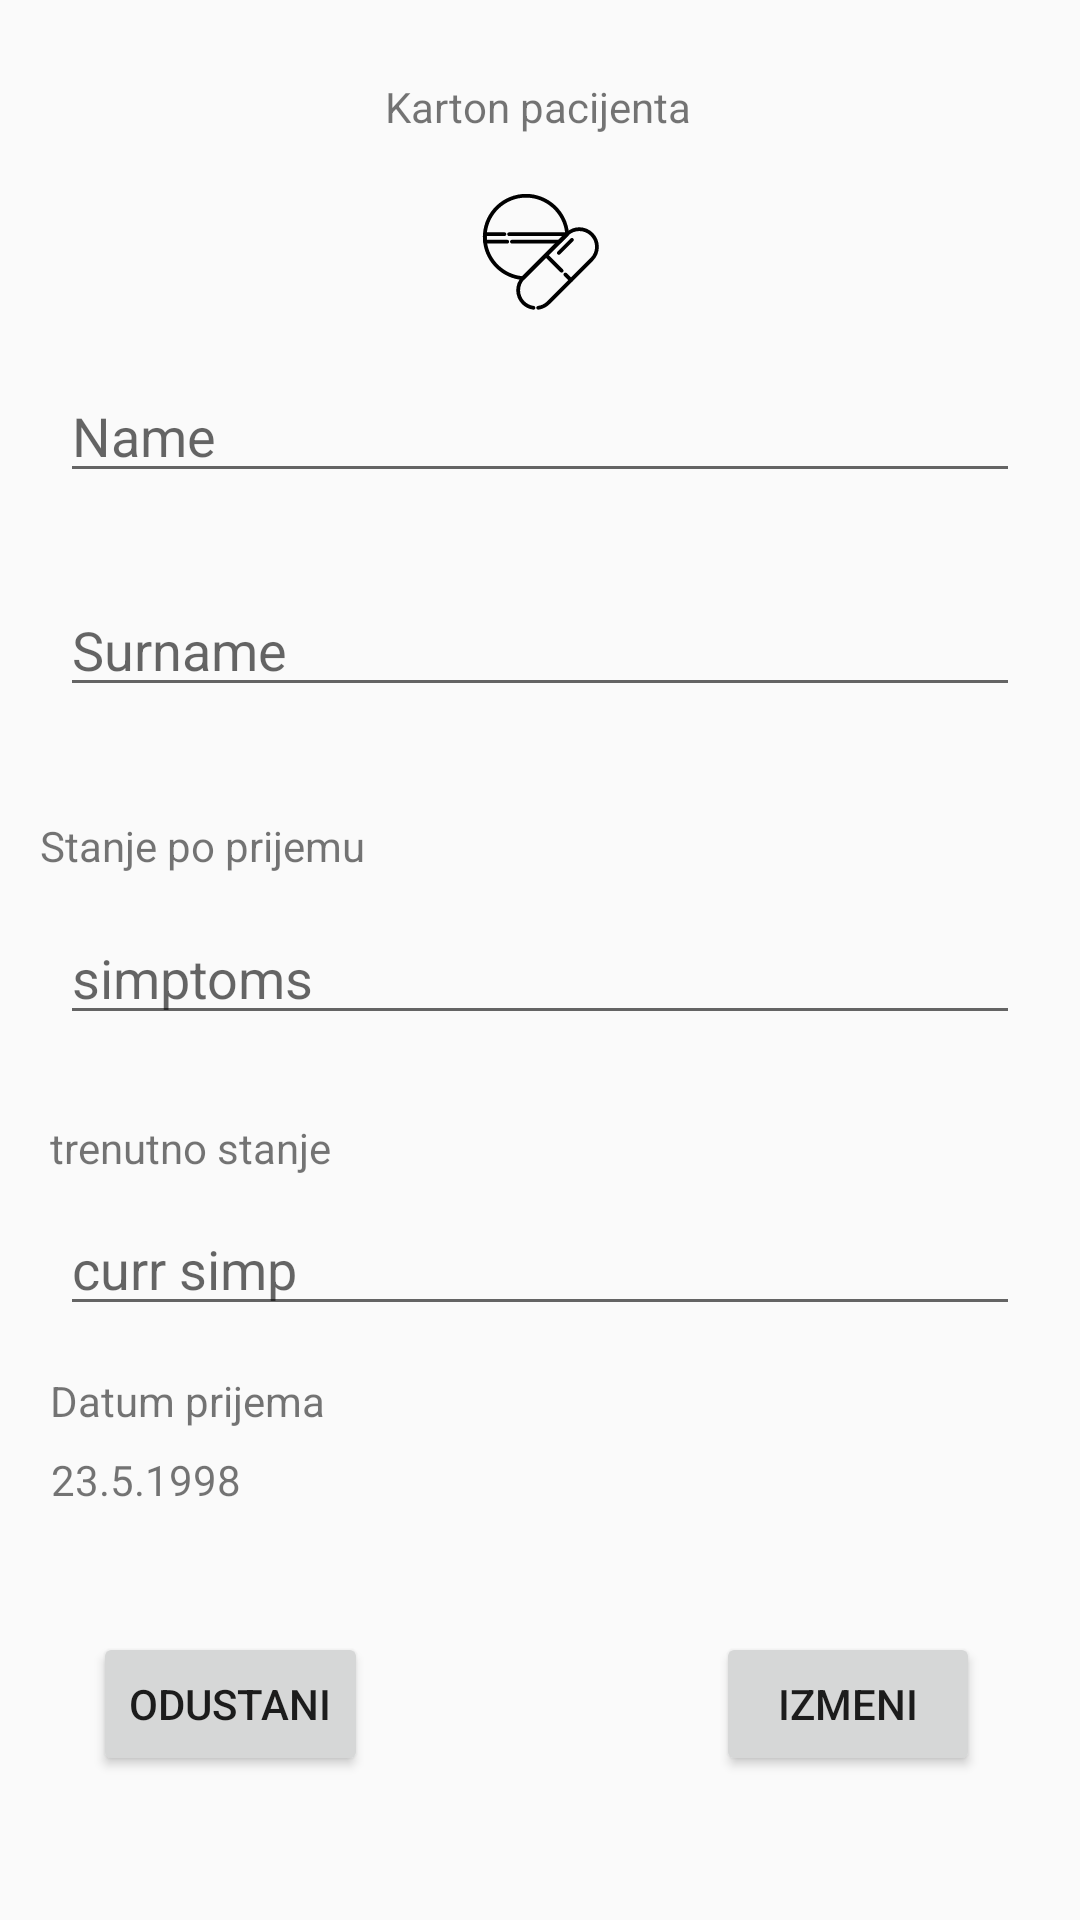

Icons on this 1080 x 1920 Android screen, each with the point to tap as (x=x, y=y):
iconfinder medical: (x=540, y=252)
